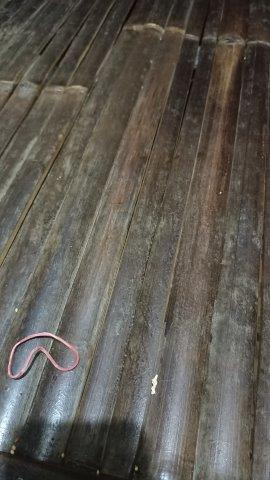karet: (7, 332, 80, 378)
